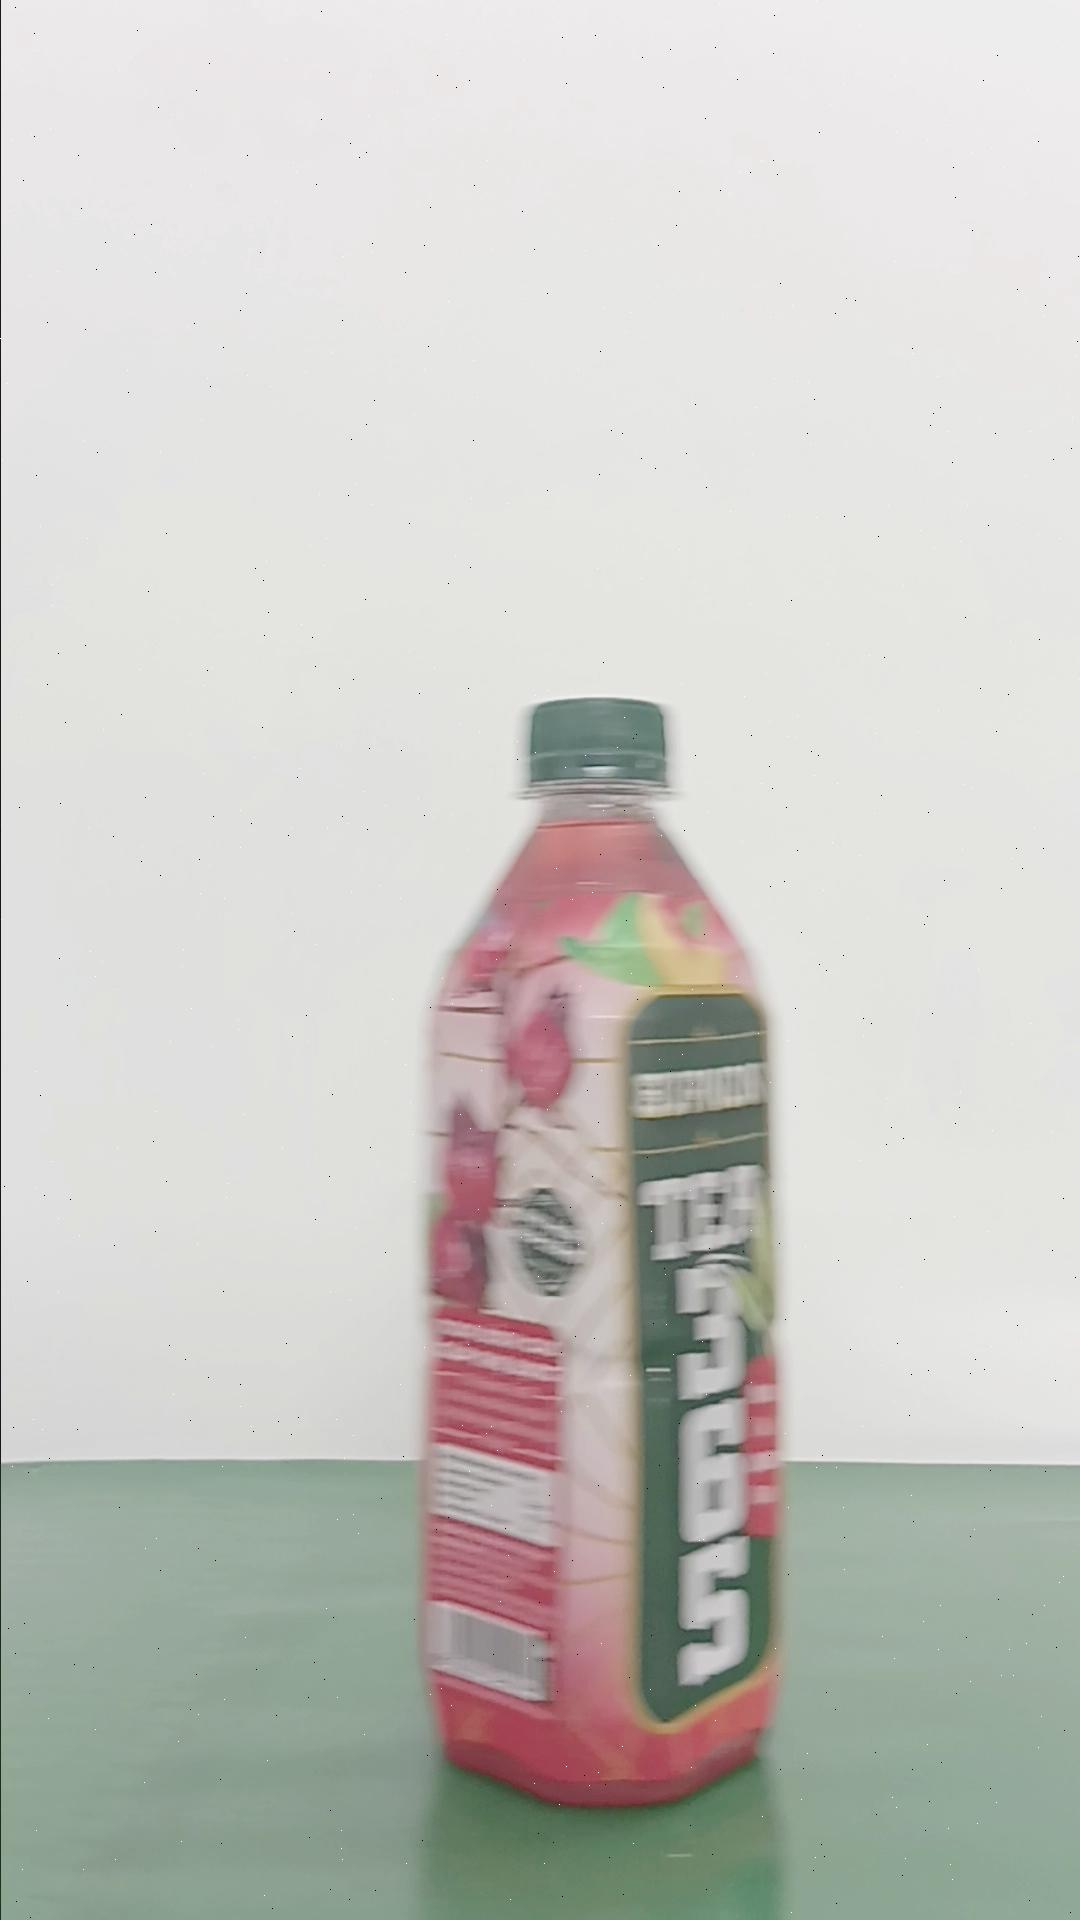khong loi: (413, 692, 790, 1809)
